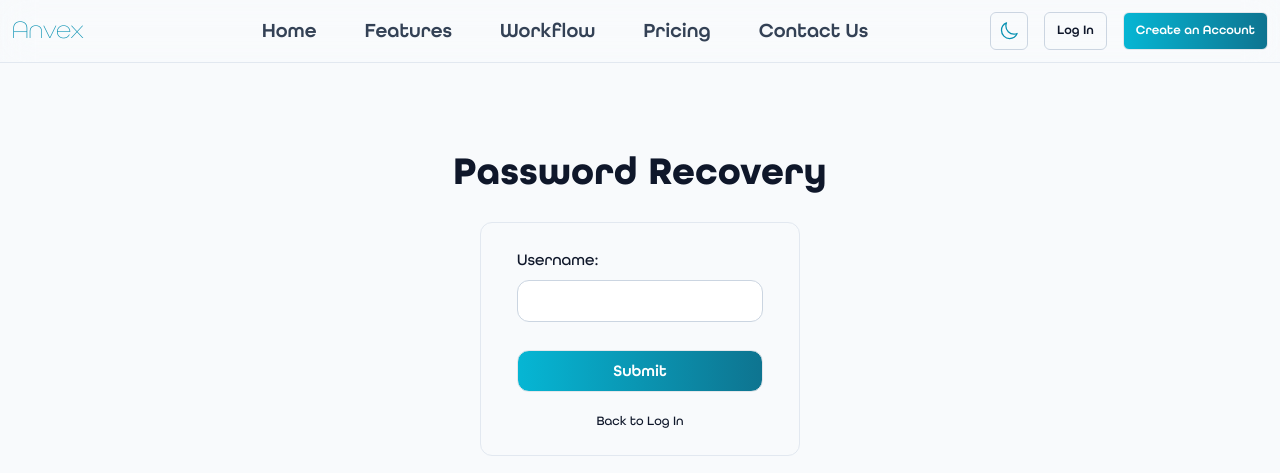
Test: the form › marks the field invalid and points at its message only once it has failed
This screenshot has width=1280, height=473.
Expected: the element with test id "route-recovery" is shown, [453,148,827,456]
Click the button "Submit": (640, 371) [517,350,763,392]
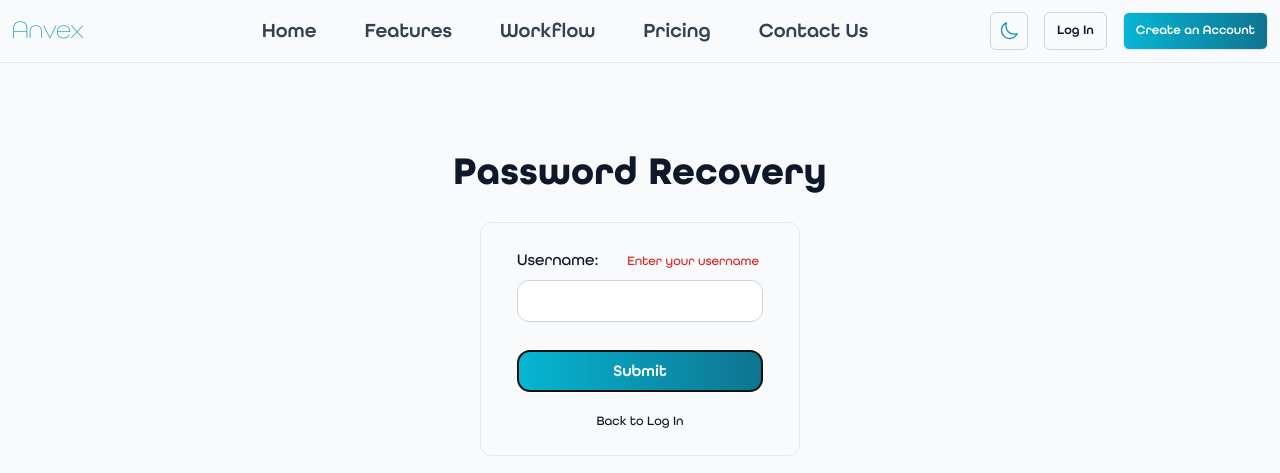
Expected: the message "Enter your username" is shown, [627,252,759,272]
